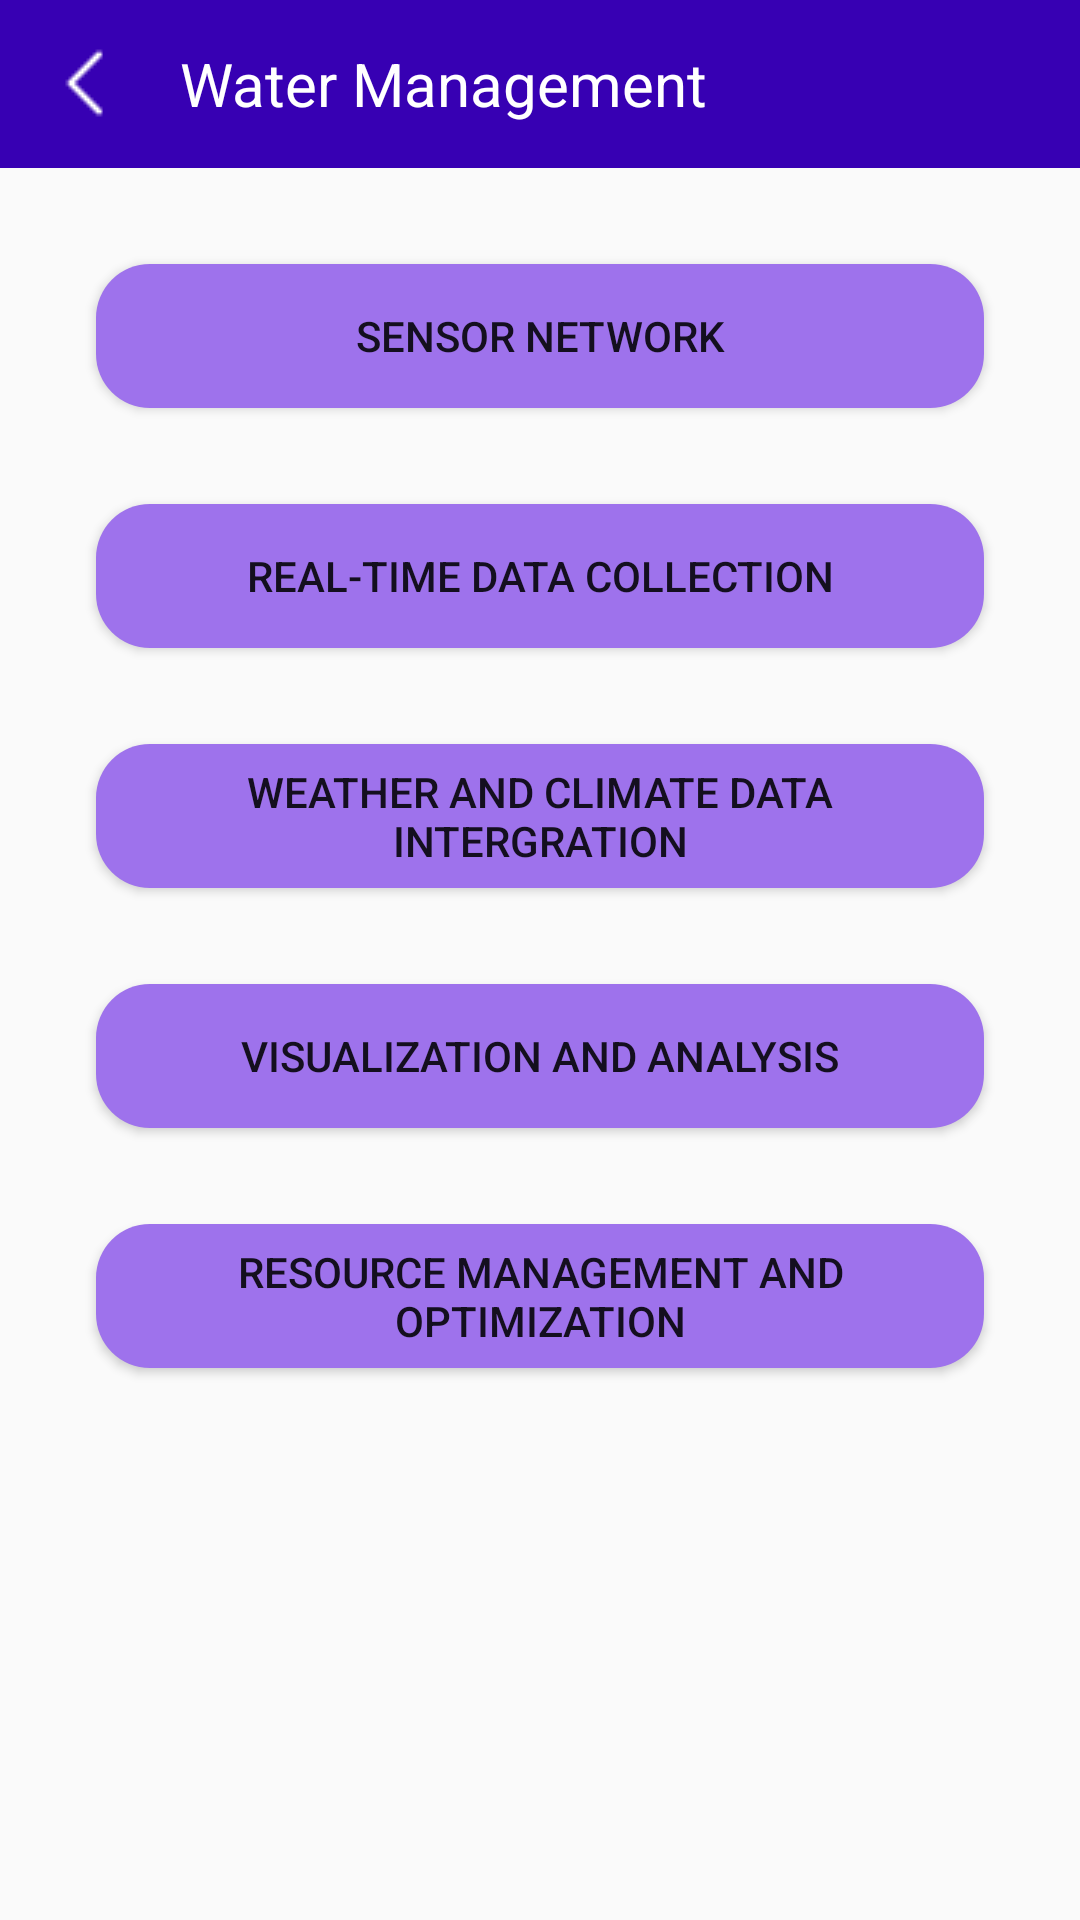

Icons on this 1080 × 1920 Android screen, each with its box as (x1, y1, x2, y2):
left arrow: (65, 50, 103, 117)
